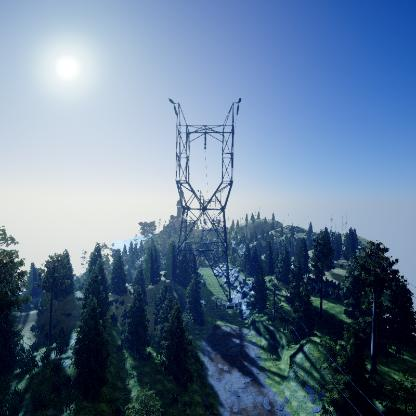tower: (165, 95, 244, 306)
